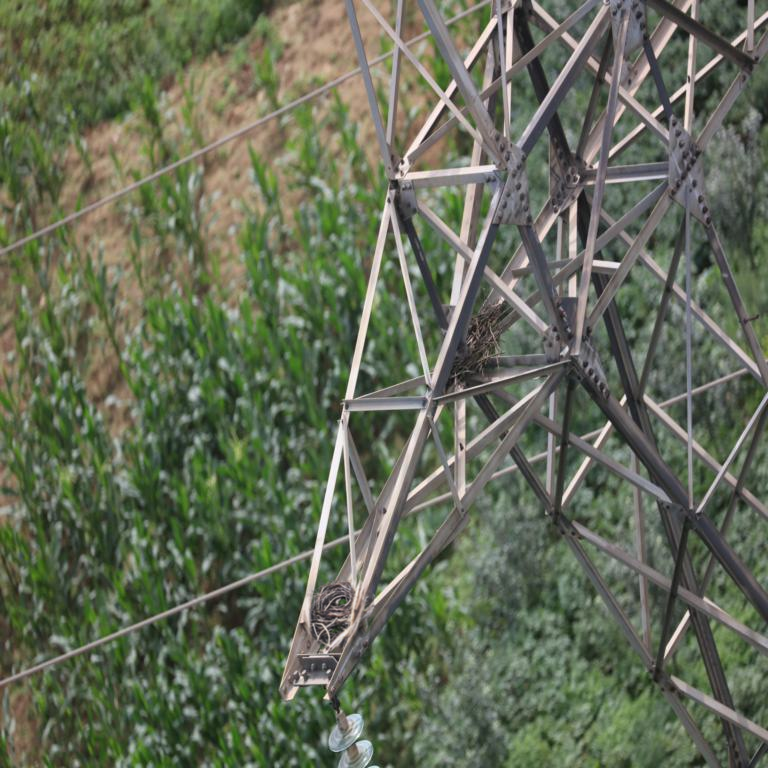nest: (444, 305, 499, 387), (310, 583, 355, 643)
